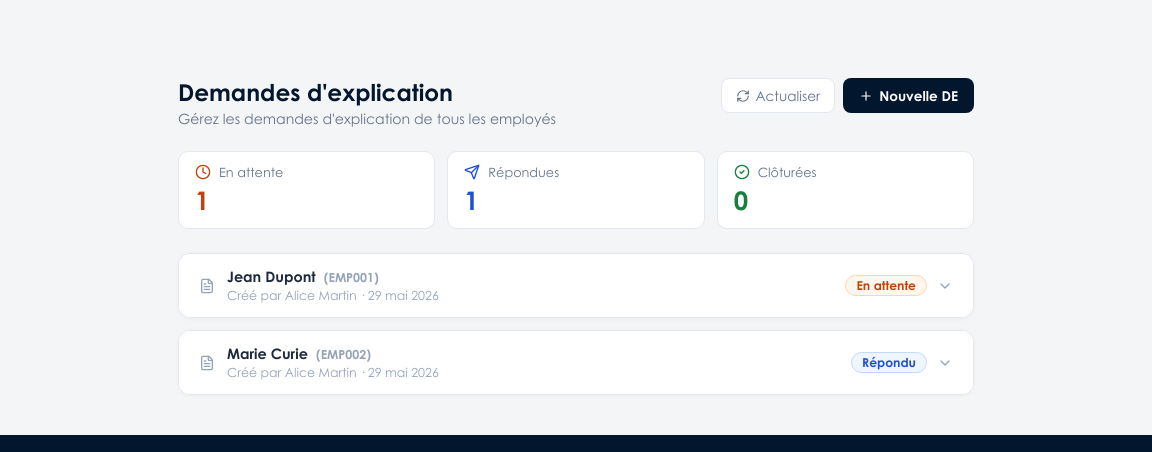
Test case: DemandeExplicationPage — vue RH › filtre par statut EN_ATTENTE masque les DEs REPONDU
Expected: the text "Jean Dupont" is shown, 227,268 -> 316,285
Click the button "En attente 1" at [307, 190], box 178,151 -> 435,229
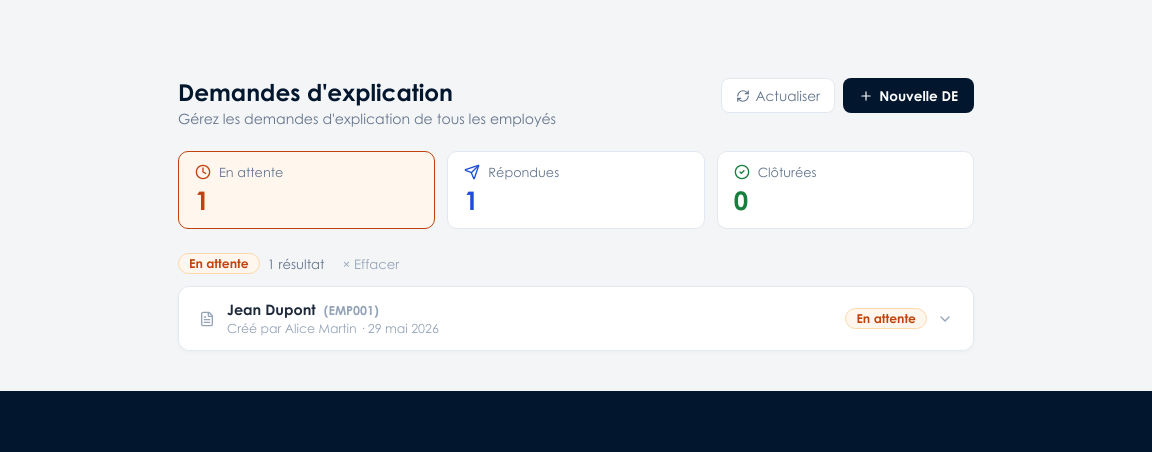
Result: the text "Marie Curie" is gone
